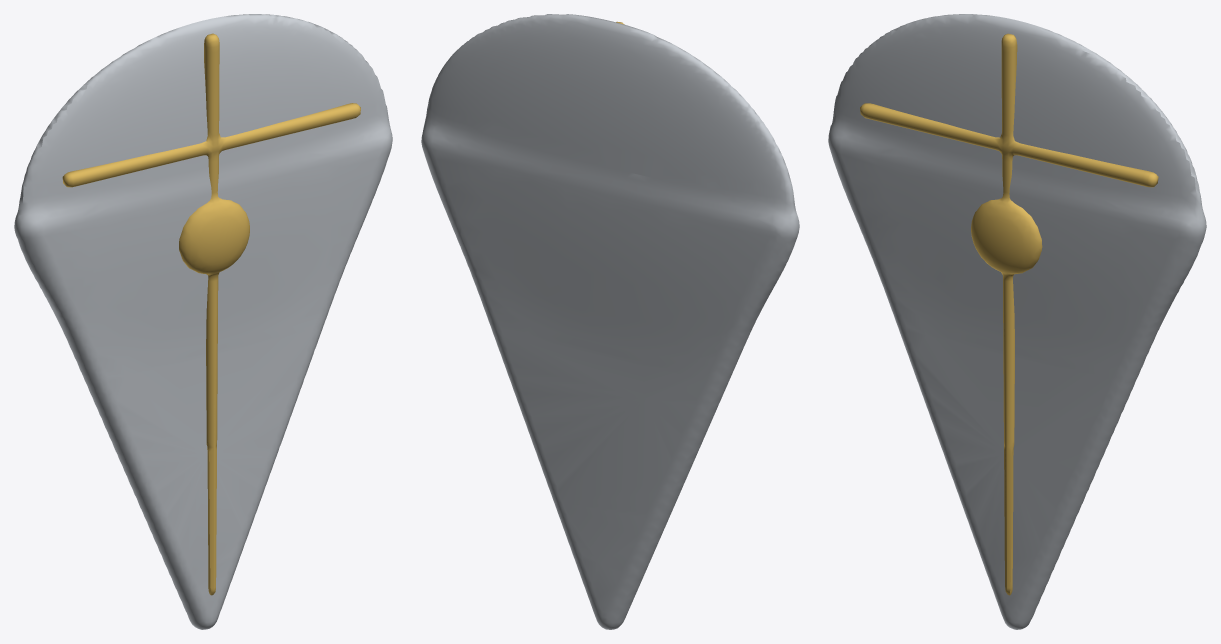
The model's file is w-shield.glb.
3 renders of one model, left to right at view 1: azimuth 30°, elevation 25°; view 2: azimuth 150°, elevation 25°; view 3: azimuth 330°, elevation 25°, orthographic.
Visible parts, largest first — view 1: w-shield; view 2: w-shield; view 3: w-shield.
Part boxes in pixels (x1=…): w-shield: x1=14, y1=14, x2=392, y2=629; w-shield: x1=421, y1=14, x2=799, y2=629; w-shield: x1=828, y1=14, x2=1206, y2=629.
Size of the model in its own units: 0.5267 by 0.816 by 0.072.
